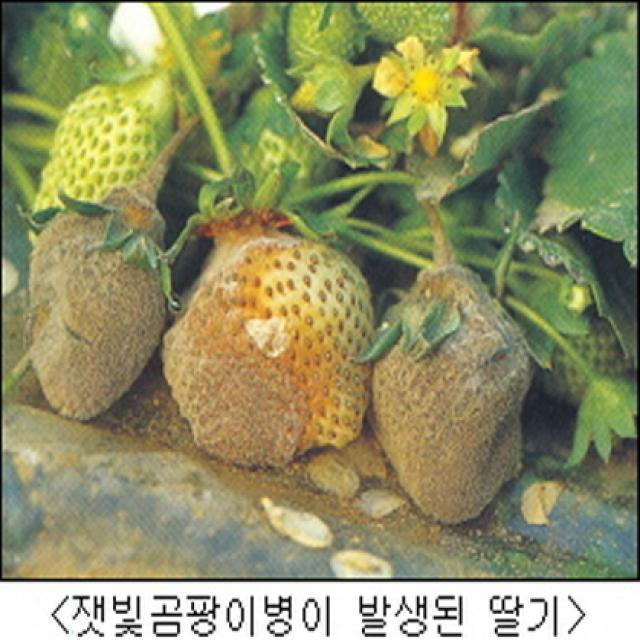Gray Mold: (161, 206, 375, 470), (363, 261, 538, 529), (24, 187, 167, 423)
